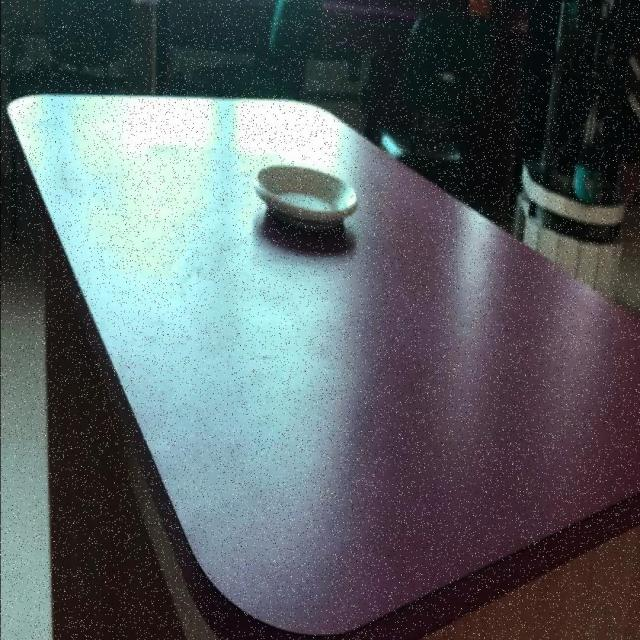Plate: (7, 86, 640, 640), (254, 163, 359, 230)
